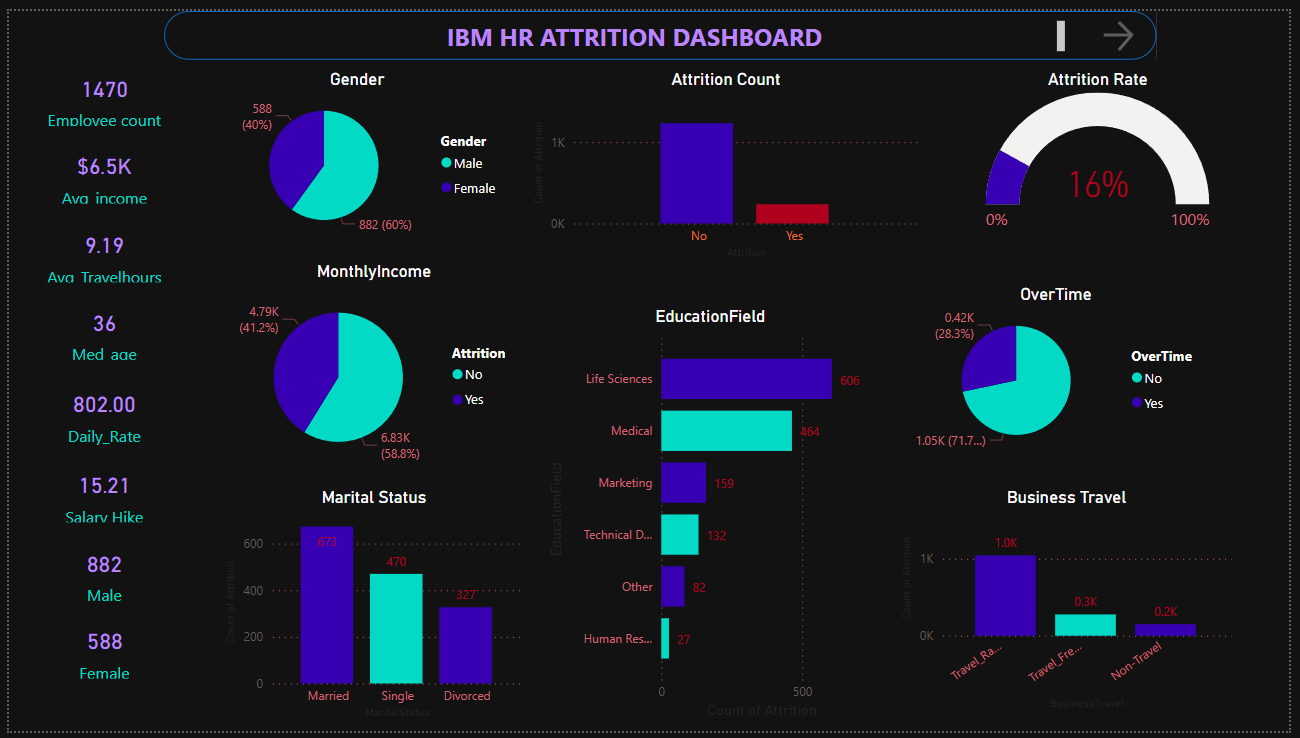

What the dashboard file says about the page in this screenshot:
{"tool":"powerbi","page":{"name":"Page 1","canvas":[1280,720],"ordinal":0},"visuals":[{"type":"shape","box":[155.5,0,992.5,48.8],"z":0,"group":"g1"},{"type":"pieChart","title":"Gender","fields":{"Category":["HR-Employee-Attrition.Gender"],"Y":["CountNonNull(HR-Employee-Attrition.Attrition)"]},"box":[193.8,57.5,308.8,175],"z":0},{"type":"textbox","box":[198,5,863.8,41.2],"z":1000,"group":"g1"},{"type":"columnChart","title":"Attrition Count","fields":{"Category":["HR-Employee-Attrition.Attrition"],"Y":["CountNonNull(HR-Employee-Attrition.Attrition)"]},"box":[518.8,57.5,396.2,195],"z":1000},{"type":"clusteredBarChart","title":"EducationField","fields":{"Category":["HR-Employee-Attrition.EducationField"],"Y":["CountNonNull(HR-Employee-Attrition.Attrition)"]},"box":[533.8,295,335,417.5],"z":2000},{"type":"columnChart","title":"Business Travel","fields":{"Category":["HR-Employee-Attrition.BusinessTravel"],"Y":["CountNonNull(HR-Employee-Attrition.Attrition)"]},"box":[887.5,476.2,340,227.5],"z":3000},{"type":"columnChart","title":"Marital Status","fields":{"Category":["HR-Employee-Attrition.MaritalStatus"],"Y":["CountNonNull(HR-Employee-Attrition.Attrition)"]},"box":[211.2,476.2,307.5,236.2],"z":4000},{"type":"pieChart","title":"OverTime","fields":{"Category":["HR-Employee-Attrition.OverTime"],"Y":["CountNonNull(HR-Employee-Attrition.Attrition)"]},"box":[887.5,272.5,318.8,175],"z":5000},{"type":"pieChart","title":"MonthlyIncome ","fields":{"Category":["HR-Employee-Attrition.Attrition"],"Y":["Avg(HR-Employee-Attrition.MonthlyIncome)"]},"box":[211.2,250,307.5,213.8],"z":6000},{"type":"group","id":"g1","title":"Group 1","box":[155.5,0,992.5,48.8],"z":7000},{"type":"card","fields":{"Values":["Measure Table.Employee count"]},"box":[11.2,57.5,168.8,62.5],"z":8000},{"type":"card","fields":{"Values":["Measure Table.Med_age"]},"box":[11.2,291.6,168.8,62.5],"z":9000},{"type":"card","fields":{"Values":["Measure Table.Avg_Travelhours"]},"box":[11.2,213.6,168.8,62.5],"z":10000},{"type":"card","fields":{"Values":["Measure Table.Avg_income"]},"box":[11.2,135.5,168.8,62.5],"z":11000},{"type":"card","fields":{"Values":["Measure Table.Salary Hike"]},"box":[11.2,453.9,168.8,62.5],"z":12000},{"type":"card","fields":{"Values":["Measure Table.Daily_Rate"]},"box":[11.2,369.6,168.8,68.8],"z":13000},{"type":"card","fields":{"Values":["Measure Table.Female"]},"box":[11.2,610,168.8,62.5],"z":14000},{"type":"card","fields":{"Values":["Measure Table.Male"]},"box":[11.2,532,168.8,62.5],"z":15000},{"type":"gauge","title":"Attrition Rate","fields":{"Y":["Measure Table.Attrition_rate"]},"box":[940,57.5,297.5,172.5],"z":16000},{"type":"actionButton","box":[1088.8,5,41.2,40],"z":16001}]}

Visuals, with their boxes in screenshot pixels (x1, y1, x2, y2), scaled from the page's 1280x720 canvas onto the 1300x738 screenshot:
shape: x1=158, y1=0, x2=1166, y2=50
"Gender" pieChart: x1=197, y1=59, x2=510, y2=238
textbox: x1=201, y1=5, x2=1078, y2=47
"Attrition Count" columnChart: x1=527, y1=59, x2=929, y2=259
"EducationField" clusteredBarChart: x1=542, y1=302, x2=882, y2=730
"Business Travel" columnChart: x1=901, y1=488, x2=1247, y2=721
"Marital Status" columnChart: x1=214, y1=488, x2=527, y2=730
"OverTime" pieChart: x1=901, y1=279, x2=1225, y2=459
"MonthlyIncome " pieChart: x1=214, y1=256, x2=527, y2=475
"Group 1" group: x1=158, y1=0, x2=1166, y2=50
card - Measure Table.Employee count: x1=11, y1=59, x2=183, y2=123
card - Measure Table.Med_age: x1=11, y1=299, x2=183, y2=363
card - Measure Table.Avg_Travelhours: x1=11, y1=219, x2=183, y2=283
card - Measure Table.Avg_income: x1=11, y1=139, x2=183, y2=203
card - Measure Table.Salary Hike: x1=11, y1=465, x2=183, y2=529
card - Measure Table.Daily_Rate: x1=11, y1=379, x2=183, y2=449
card - Measure Table.Female: x1=11, y1=625, x2=183, y2=689
card - Measure Table.Male: x1=11, y1=545, x2=183, y2=609
"Attrition Rate" gauge: x1=955, y1=59, x2=1257, y2=236
actionButton: x1=1106, y1=5, x2=1148, y2=46
